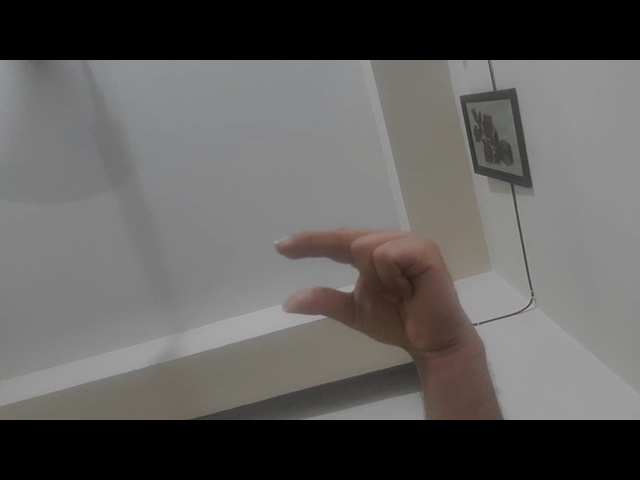No: (251, 216, 494, 362)
